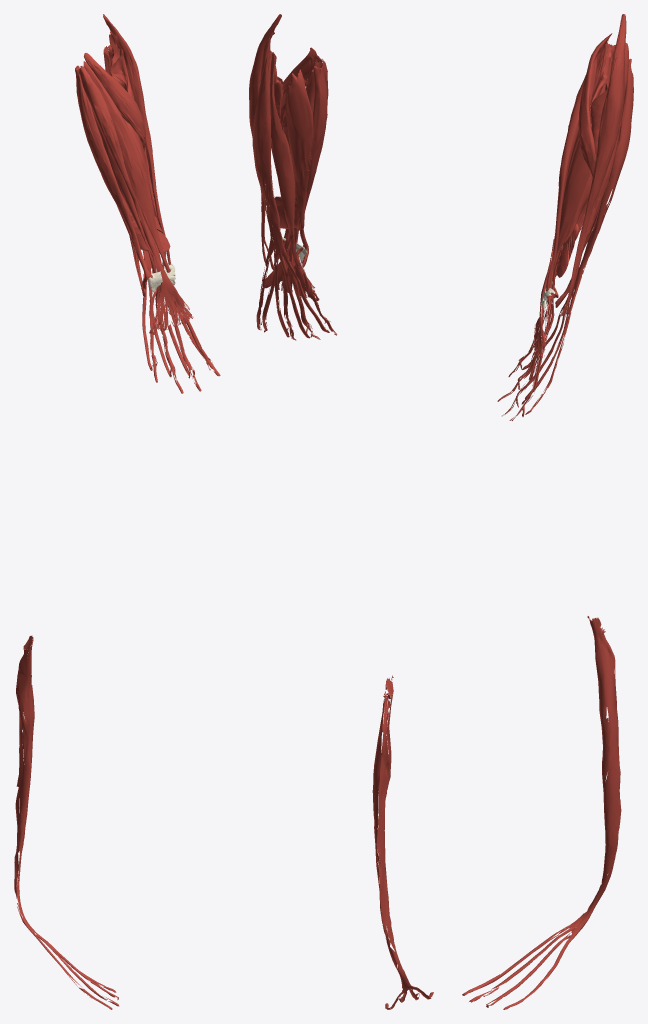
Rendered from forearmm.glb.
3 renders of one model, left to right at view 1: azimuth 30°, elevation 25°; view 2: azimuth 150°, elevation 25°; view 3: azimuth 270°, elevation 25°, orthographic. The views are drawn at different scales.
Visible parts, largest first — view 1: left extensor digitorum longus, left palmaris longus, left flexor carpi radialis, humeral head of left flexor carpi ulnaris, left flexor digitorum superficialis, left extensor carpi radialis longus, humeral head of left pronator teres, left extensor digitorum, left flexor digitorum profundus, left supinator; view 2: left extensor digitorum, left extensor digitorum longus, ulnar head of left flexor carpi ulnaris, left extensor carpi ulnaris, humeral head of left flexor carpi ulnaris, left flexor digitorum profundus, left extensor carpi radialis longus, left flexor digitorum superficialis, left palmaris longus, humeral head of left pronator teres, left extensor carpi radialis brevis; view 3: left extensor digitorum longus, left extensor carpi radialis longus, left extensor digitorum, left flexor digitorum superficialis (2), humeral head of left pronator teres, left flexor carpi radialis, left flexor digitorum superficialis, left flexor digitorum profundus, left extensor carpi radialis brevis, left palmaris longus, left supinator, left pronator quadratus.
Boxes of the visible parts, box(x1,y1,x2,y2) form: left extensor digitorum longus: box(14, 635, 119, 1009); left palmaris longus: box(79, 66, 193, 334); left flexor carpi radialis: box(83, 61, 175, 283); humeral head of left flexor carpi ulnaris: box(75, 65, 152, 289); left flexor digitorum superficialis: box(77, 69, 213, 378); left extensor carpi radialis longus: box(103, 14, 175, 278); humeral head of left pronator teres: box(84, 53, 146, 151); left extensor digitorum: box(107, 45, 208, 376); left flexor digitorum profundus: box(125, 201, 220, 393); left supinator: box(110, 48, 134, 99); left extensor digitorum: box(252, 50, 329, 338); left extensor digitorum longus: box(372, 675, 433, 1009); ulnar head of left flexor carpi ulnaris: box(286, 69, 313, 229); left extensor carpi ulnaris: box(270, 52, 303, 276); humeral head of left flexor carpi ulnaris: box(296, 66, 327, 267); left flexor digitorum profundus: box(262, 115, 337, 340); left extensor carpi radialis longus: box(249, 14, 281, 263); left flexor digitorum superficialis: box(260, 59, 330, 337); left palmaris longus: box(264, 58, 328, 300); humeral head of left pronator teres: box(282, 47, 316, 93); left extensor carpi radialis brevis: box(260, 32, 274, 270); left extensor digitorum longus: box(462, 616, 621, 1009); left extensor carpi radialis longus: box(561, 14, 626, 316); left extensor digitorum: box(521, 60, 633, 414); left flexor digitorum superficialis (2): box(552, 120, 591, 277); humeral head of left pronator teres: box(578, 33, 612, 177); left flexor carpi radialis: box(546, 39, 608, 313); left flexor digitorum superficialis: box(516, 41, 612, 416); left flexor digitorum profundus: box(497, 82, 608, 420); left extensor carpi radialis brevis: box(566, 43, 628, 314); left palmaris longus: box(533, 40, 608, 358); left supinator: box(590, 89, 607, 156); left pronator quadratus: box(556, 223, 578, 277).
Size of the model in its own units: 0.2176 by 1.17 by 0.1783.
